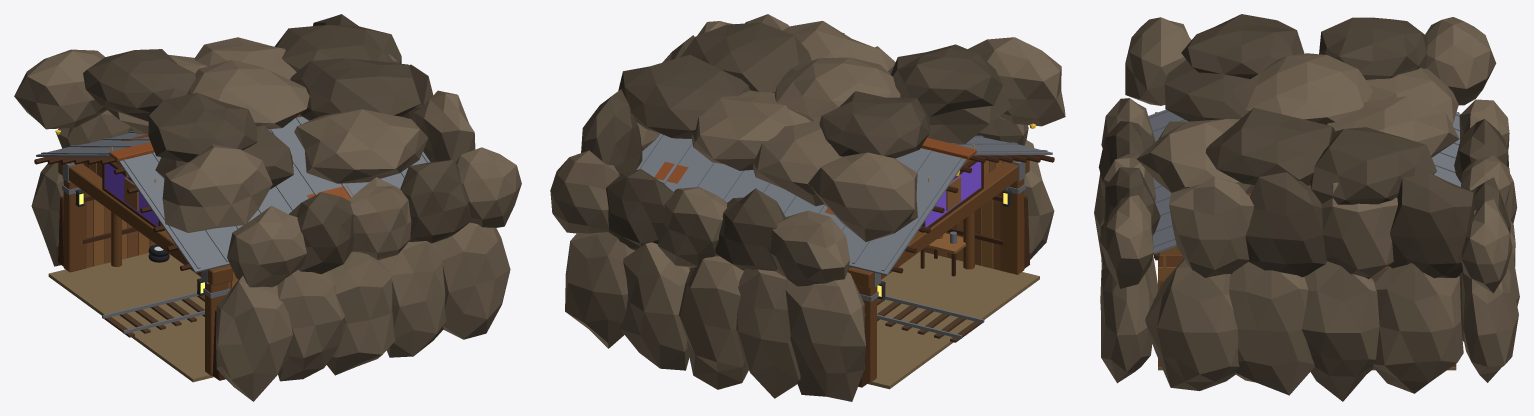
Rendered from pit-garage-mines.glb.
The picture shows the model from 3 angles, left to right: view 1: azimuth 30°, elevation 25°; view 2: azimuth 150°, elevation 25°; view 3: azimuth 270°, elevation 25°; orthographic projection. The views are drawn at different scales.
Visible parts, largest first — view 1: Floor, Rock_33, Rock_35, Rock, Rock_16, Roof, Rock_31, Rock_8, Rock_12, Rock_36, Rock_4, Rock_38 (+24 smaller); view 2: Floor, Roof_1, Rock_2, Rock_37, Rock_10, Rock_34, Rock_14, Rock_6, Rock_18, Rock_36, Rock_38, Rock_30 (+26 smaller); view 3: Rock_26, Rock_20, Rock_22, Rock_24, Rock_34, Rock_27, Rock_29, Rock_23, Rock_31, Rock_21, Rock_36, Rock_38 (+23 smaller).
Part boxes in pixels (x1,y1,x2,y2): Floor: [48, 253, 213, 382]; Rock_33: [294, 109, 428, 183]; Rock_35: [162, 144, 272, 232]; Rock: [215, 276, 292, 401]; Rock_16: [435, 222, 510, 339]; Roof: [118, 116, 426, 273]; Rock_31: [290, 58, 420, 120]; Rock_8: [327, 252, 395, 375]; Rock_12: [379, 241, 446, 357]; Rock_36: [148, 92, 257, 162]; Rock_4: [277, 269, 344, 381]; Rock_38: [83, 49, 195, 121]; Floor: [867, 251, 1039, 389]; Roof_1: [640, 135, 966, 275]; Rock_2: [785, 272, 865, 401]; Rock_37: [808, 152, 917, 241]; Rock_10: [679, 256, 748, 389]; Rock_34: [618, 54, 749, 138]; Rock_14: [620, 242, 690, 370]; Rock_6: [736, 269, 800, 398]; Rock_18: [565, 232, 634, 348]; Rock_36: [891, 44, 1002, 116]; Rock_38: [819, 91, 929, 158]; Rock_30: [691, 90, 810, 170]; Rock_26: [1371, 263, 1463, 393]; Rock_20: [1145, 259, 1239, 390]; Rock_22: [1229, 262, 1314, 395]; Rock_24: [1301, 261, 1379, 401]; Rock_34: [1310, 127, 1437, 204]; Rock_27: [1389, 172, 1474, 278]; Rock_29: [1232, 53, 1372, 124]; Rock_23: [1245, 172, 1326, 277]; Rock_31: [1205, 107, 1334, 185]; Rock_21: [1169, 176, 1254, 277]; Rock_36: [1181, 14, 1304, 78]; Rock_38: [1319, 17, 1427, 79].
Size of the model in its own units: 13.68 by 9.9 by 14.28.
